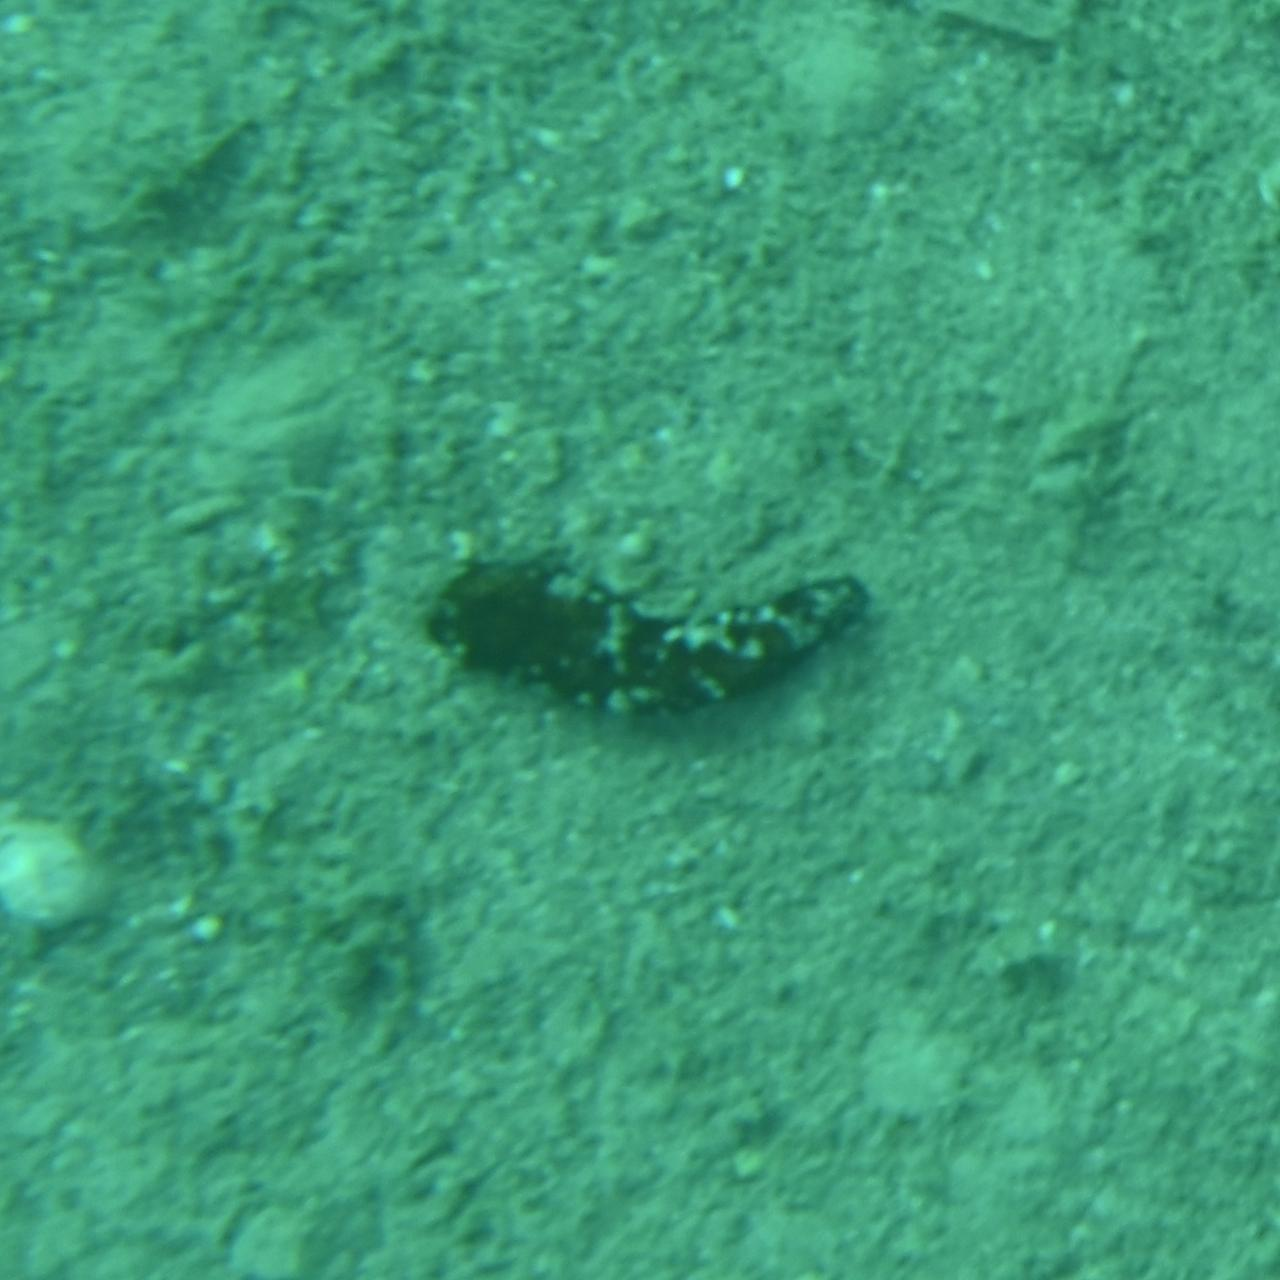Holothuria tubulosa: (416, 548, 864, 732)
